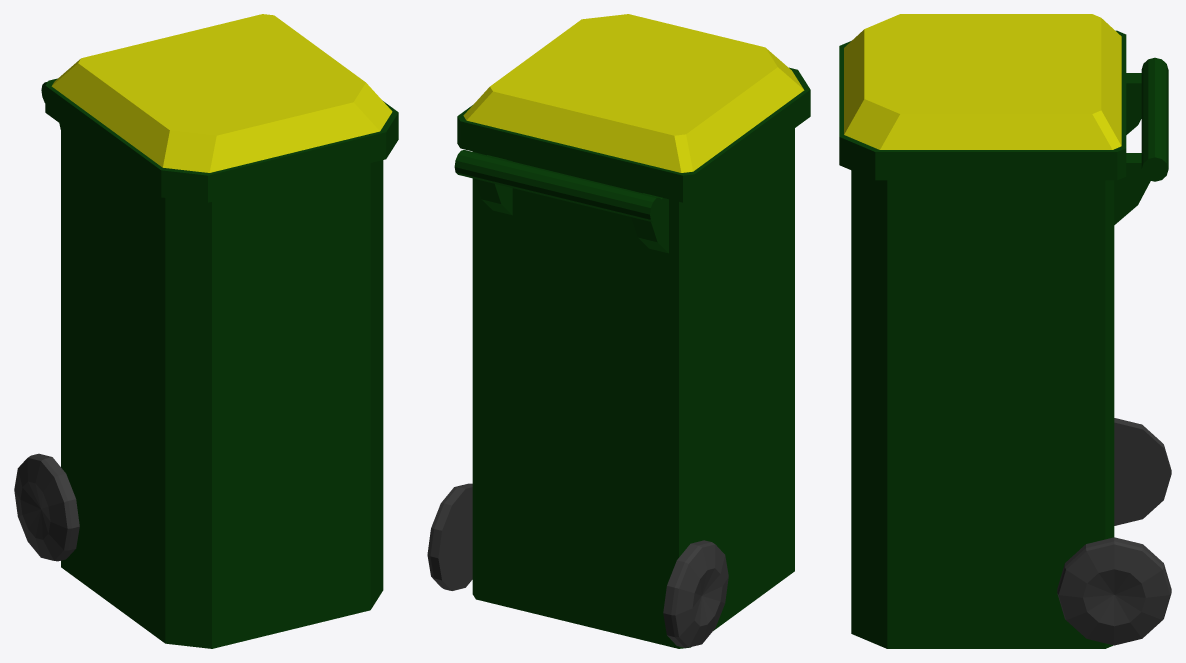
Rendered from Prop_Bin_Wheel_003.fbx.
3 views of the same model, side by side, from view 1: azimuth 30°, elevation 25°; view 2: azimuth 150°, elevation 25°; view 3: azimuth 270°, elevation 25° (orthographic). The views are drawn at different scales.
Parts seen in each view (by area): view 1: Prop_Bin_003; view 2: Prop_Bin_003; view 3: Prop_Bin_003.
Boxes of the visible parts, <box> form: Prop_Bin_003: <box>14,14,398,648</box>; Prop_Bin_003: <box>427,14,810,648</box>; Prop_Bin_003: <box>839,14,1171,648</box>.
Bounding box in the file's own units: 0.4931 × 0.921 × 0.5237.
